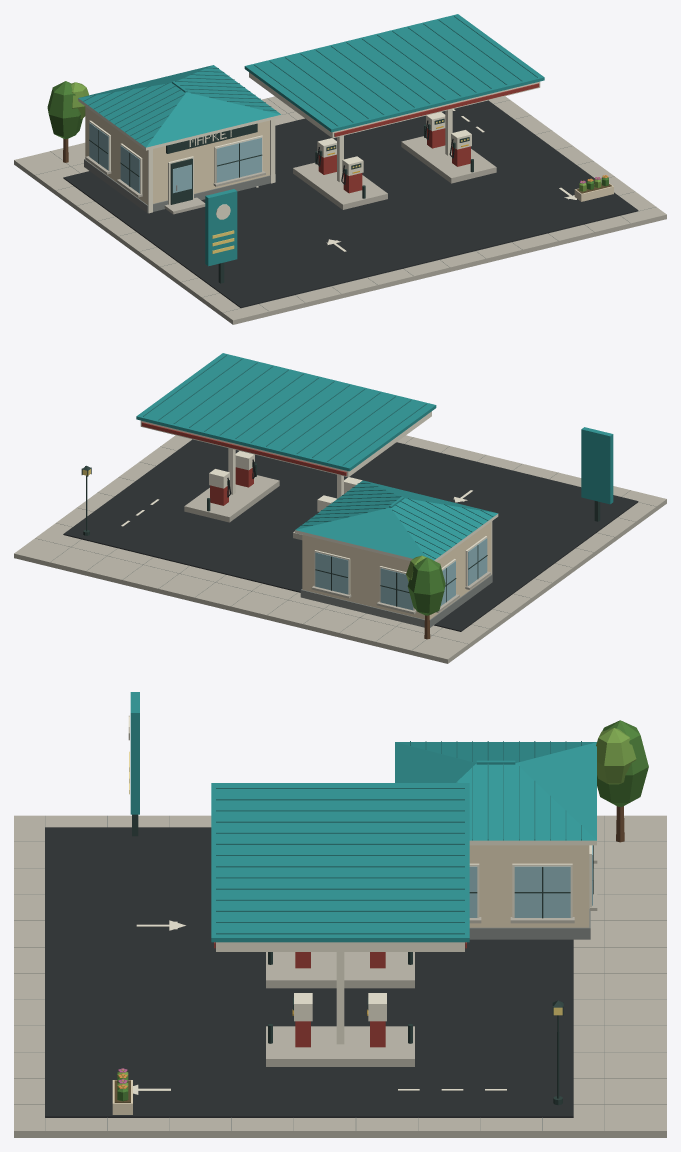
File: 04_FuelStation.obj
The picture shows the model from 3 angles, top to bottom: view 1: azimuth 30°, elevation 25°; view 2: azimuth 150°, elevation 25°; view 3: azimuth 270°, elevation 25°; orthographic projection. The views are drawn at different scales.
Visible parts, largest first — view 1: 04_FuelStation; view 2: 04_FuelStation; view 3: 04_FuelStation.
Part boxes in pixels (x1,y1,x2,y2): 04_FuelStation: (14,14,666,324); 04_FuelStation: (14,353,666,663); 04_FuelStation: (14,692,666,1137).
Bounding box in the file's own units: 24 × 5.67 × 21.
Materials: 1 (1 with a texture image).
